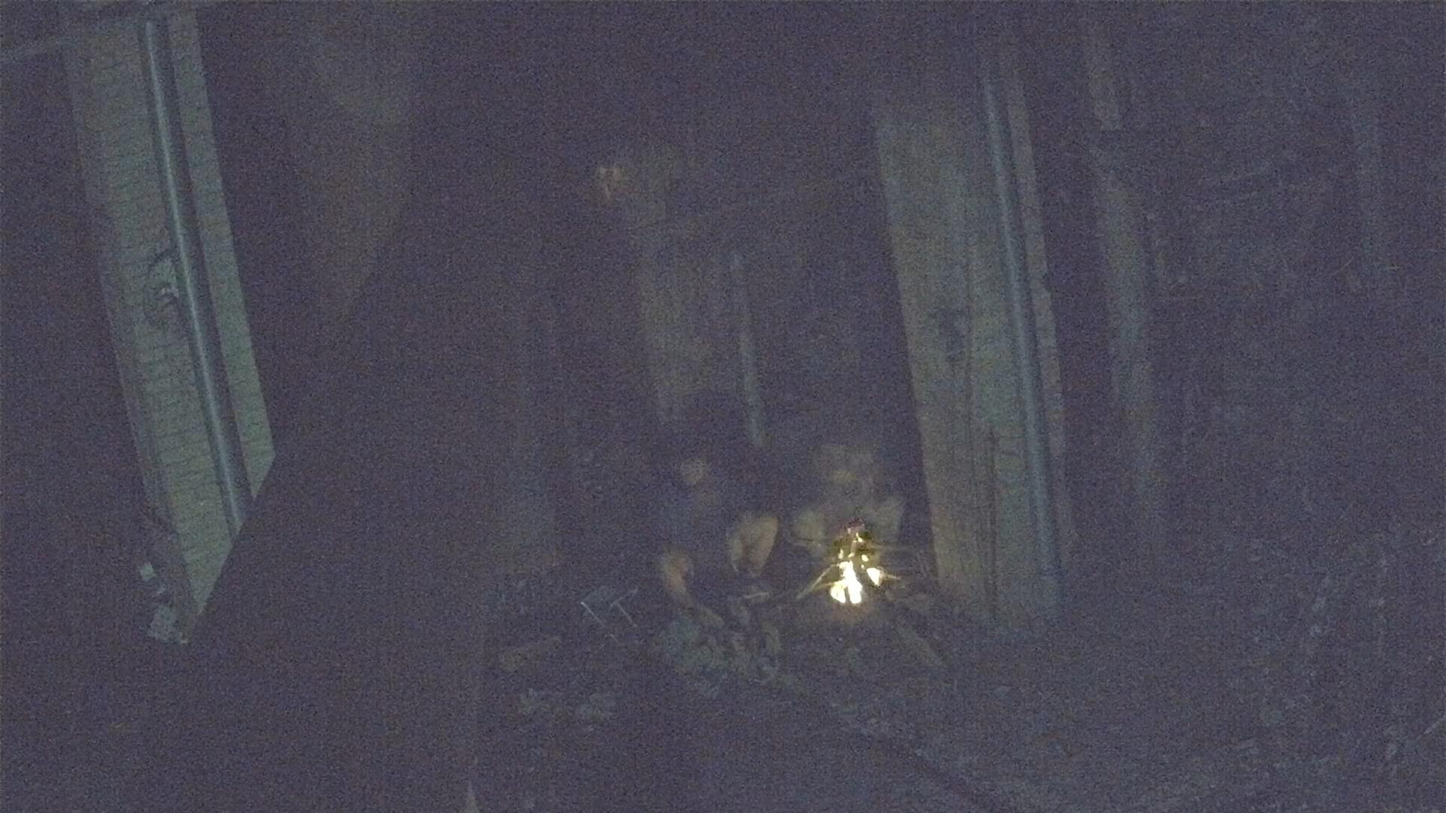fire: (816, 516, 887, 605)
